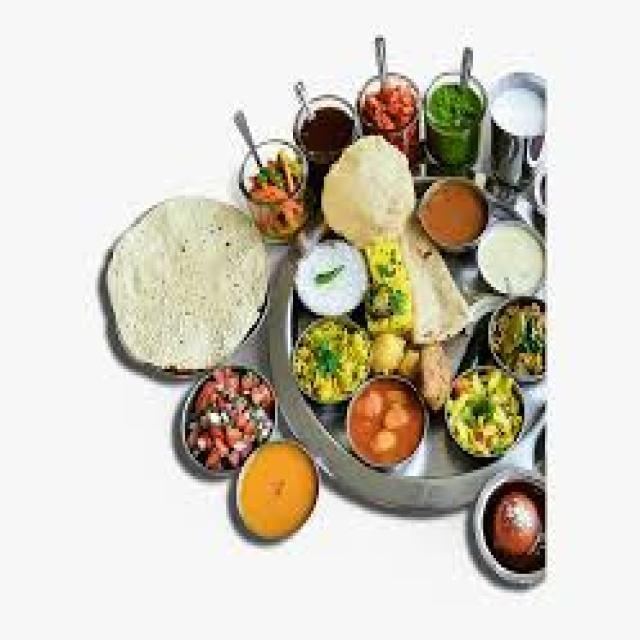curd: (485, 84, 551, 146)
dal: (111, 202, 267, 367), (231, 445, 325, 542)
papad: (319, 136, 417, 240), (403, 256, 475, 349)
pickle: (475, 478, 549, 578)
raita: (291, 239, 374, 322), (485, 81, 548, 143)
sambar-rasam: (230, 441, 325, 545), (415, 179, 493, 243), (291, 103, 358, 153)
sweet: (344, 380, 430, 468)
